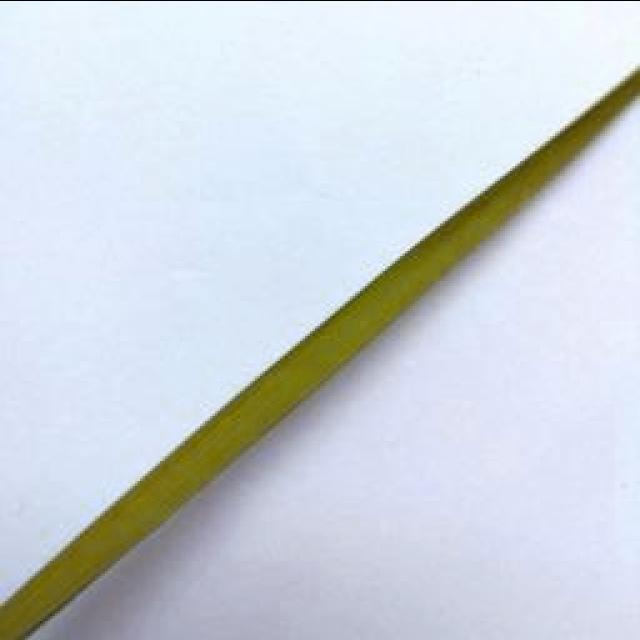Healthy: (0, 67, 640, 640)
